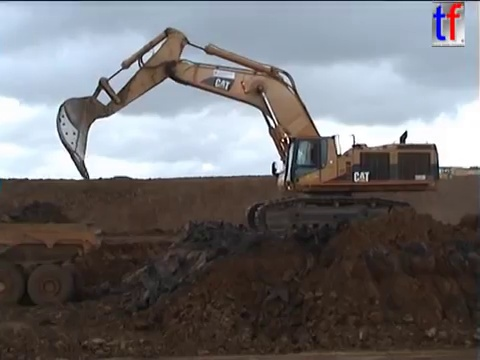excavator: (52, 24, 443, 241)
truck: (1, 215, 104, 308), (428, 164, 479, 187)
